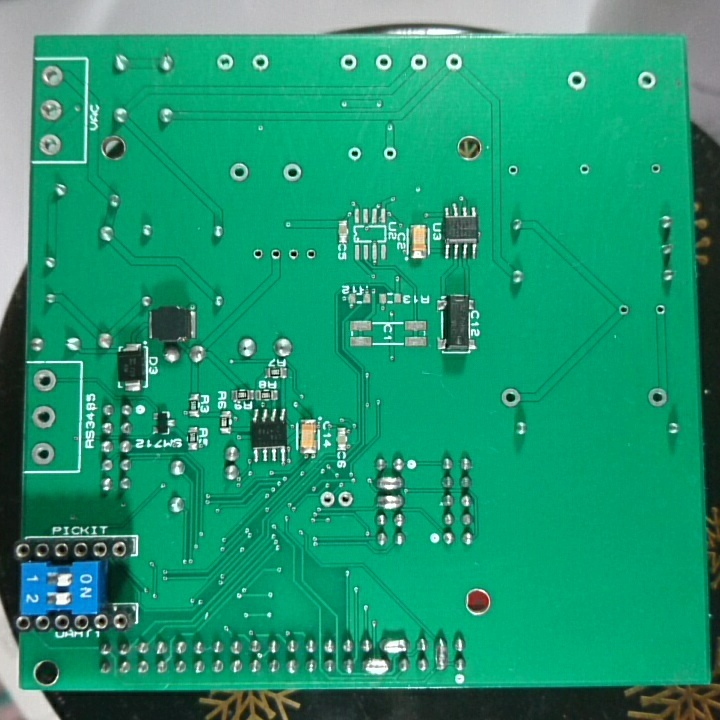F: (29, 438, 57, 466), (31, 403, 58, 429), (31, 368, 57, 394), (39, 64, 64, 89), (37, 132, 63, 156), (39, 98, 63, 124), (565, 69, 589, 94), (499, 386, 524, 409), (279, 161, 304, 184), (645, 385, 669, 408), (214, 52, 237, 75), (228, 161, 251, 184), (634, 69, 657, 91), (337, 51, 359, 74), (249, 52, 272, 74), (442, 52, 465, 73), (408, 52, 429, 75), (317, 487, 337, 511), (372, 52, 394, 73), (336, 487, 354, 511), (345, 143, 365, 164), (381, 142, 399, 164), (282, 245, 302, 263), (301, 243, 319, 262), (648, 160, 665, 179), (250, 246, 268, 262), (652, 301, 668, 318), (505, 162, 521, 179), (615, 302, 631, 318), (268, 246, 283, 262), (577, 160, 591, 177)
P: (377, 632, 410, 656), (373, 492, 408, 513), (432, 633, 449, 675), (359, 655, 392, 676), (374, 473, 405, 494)
